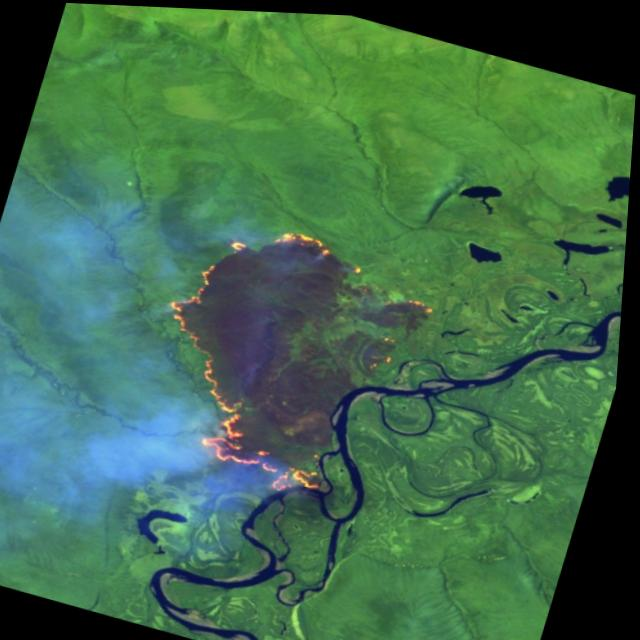fire: (124, 194, 465, 521)
